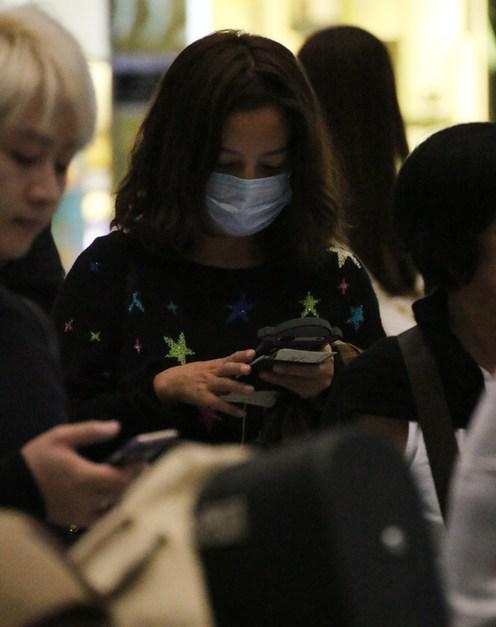NONE: (1, 121, 84, 252)
OK: (198, 139, 301, 242)
